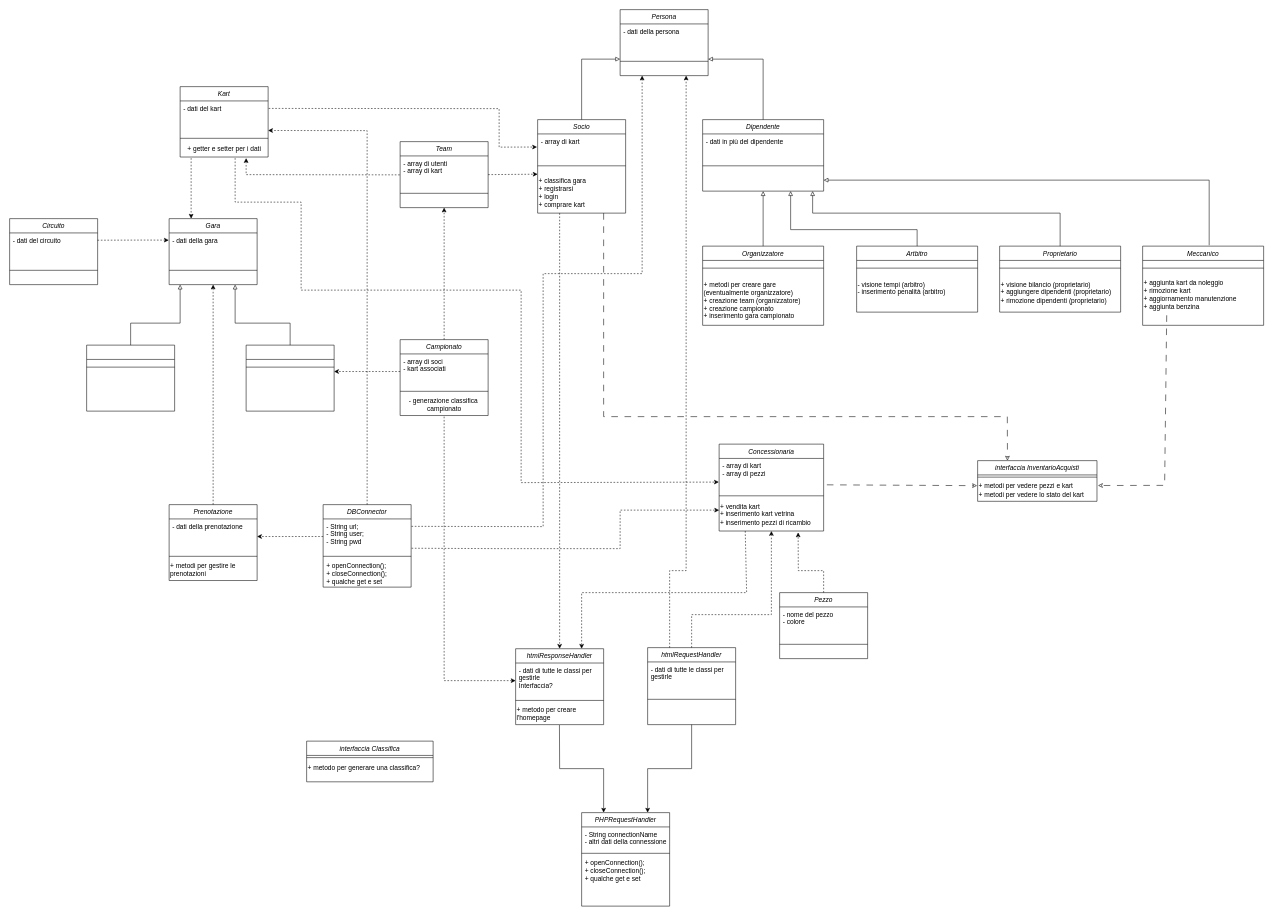
The diagram is 1273 pixels wide and 916 high, and some of its shapes have lost their labels. The shapes that lost their labels are listed below. From the top down, each one's centre as x and y in pixels, then its label:
point (130, 378): Libera
point (290, 378): Secca
